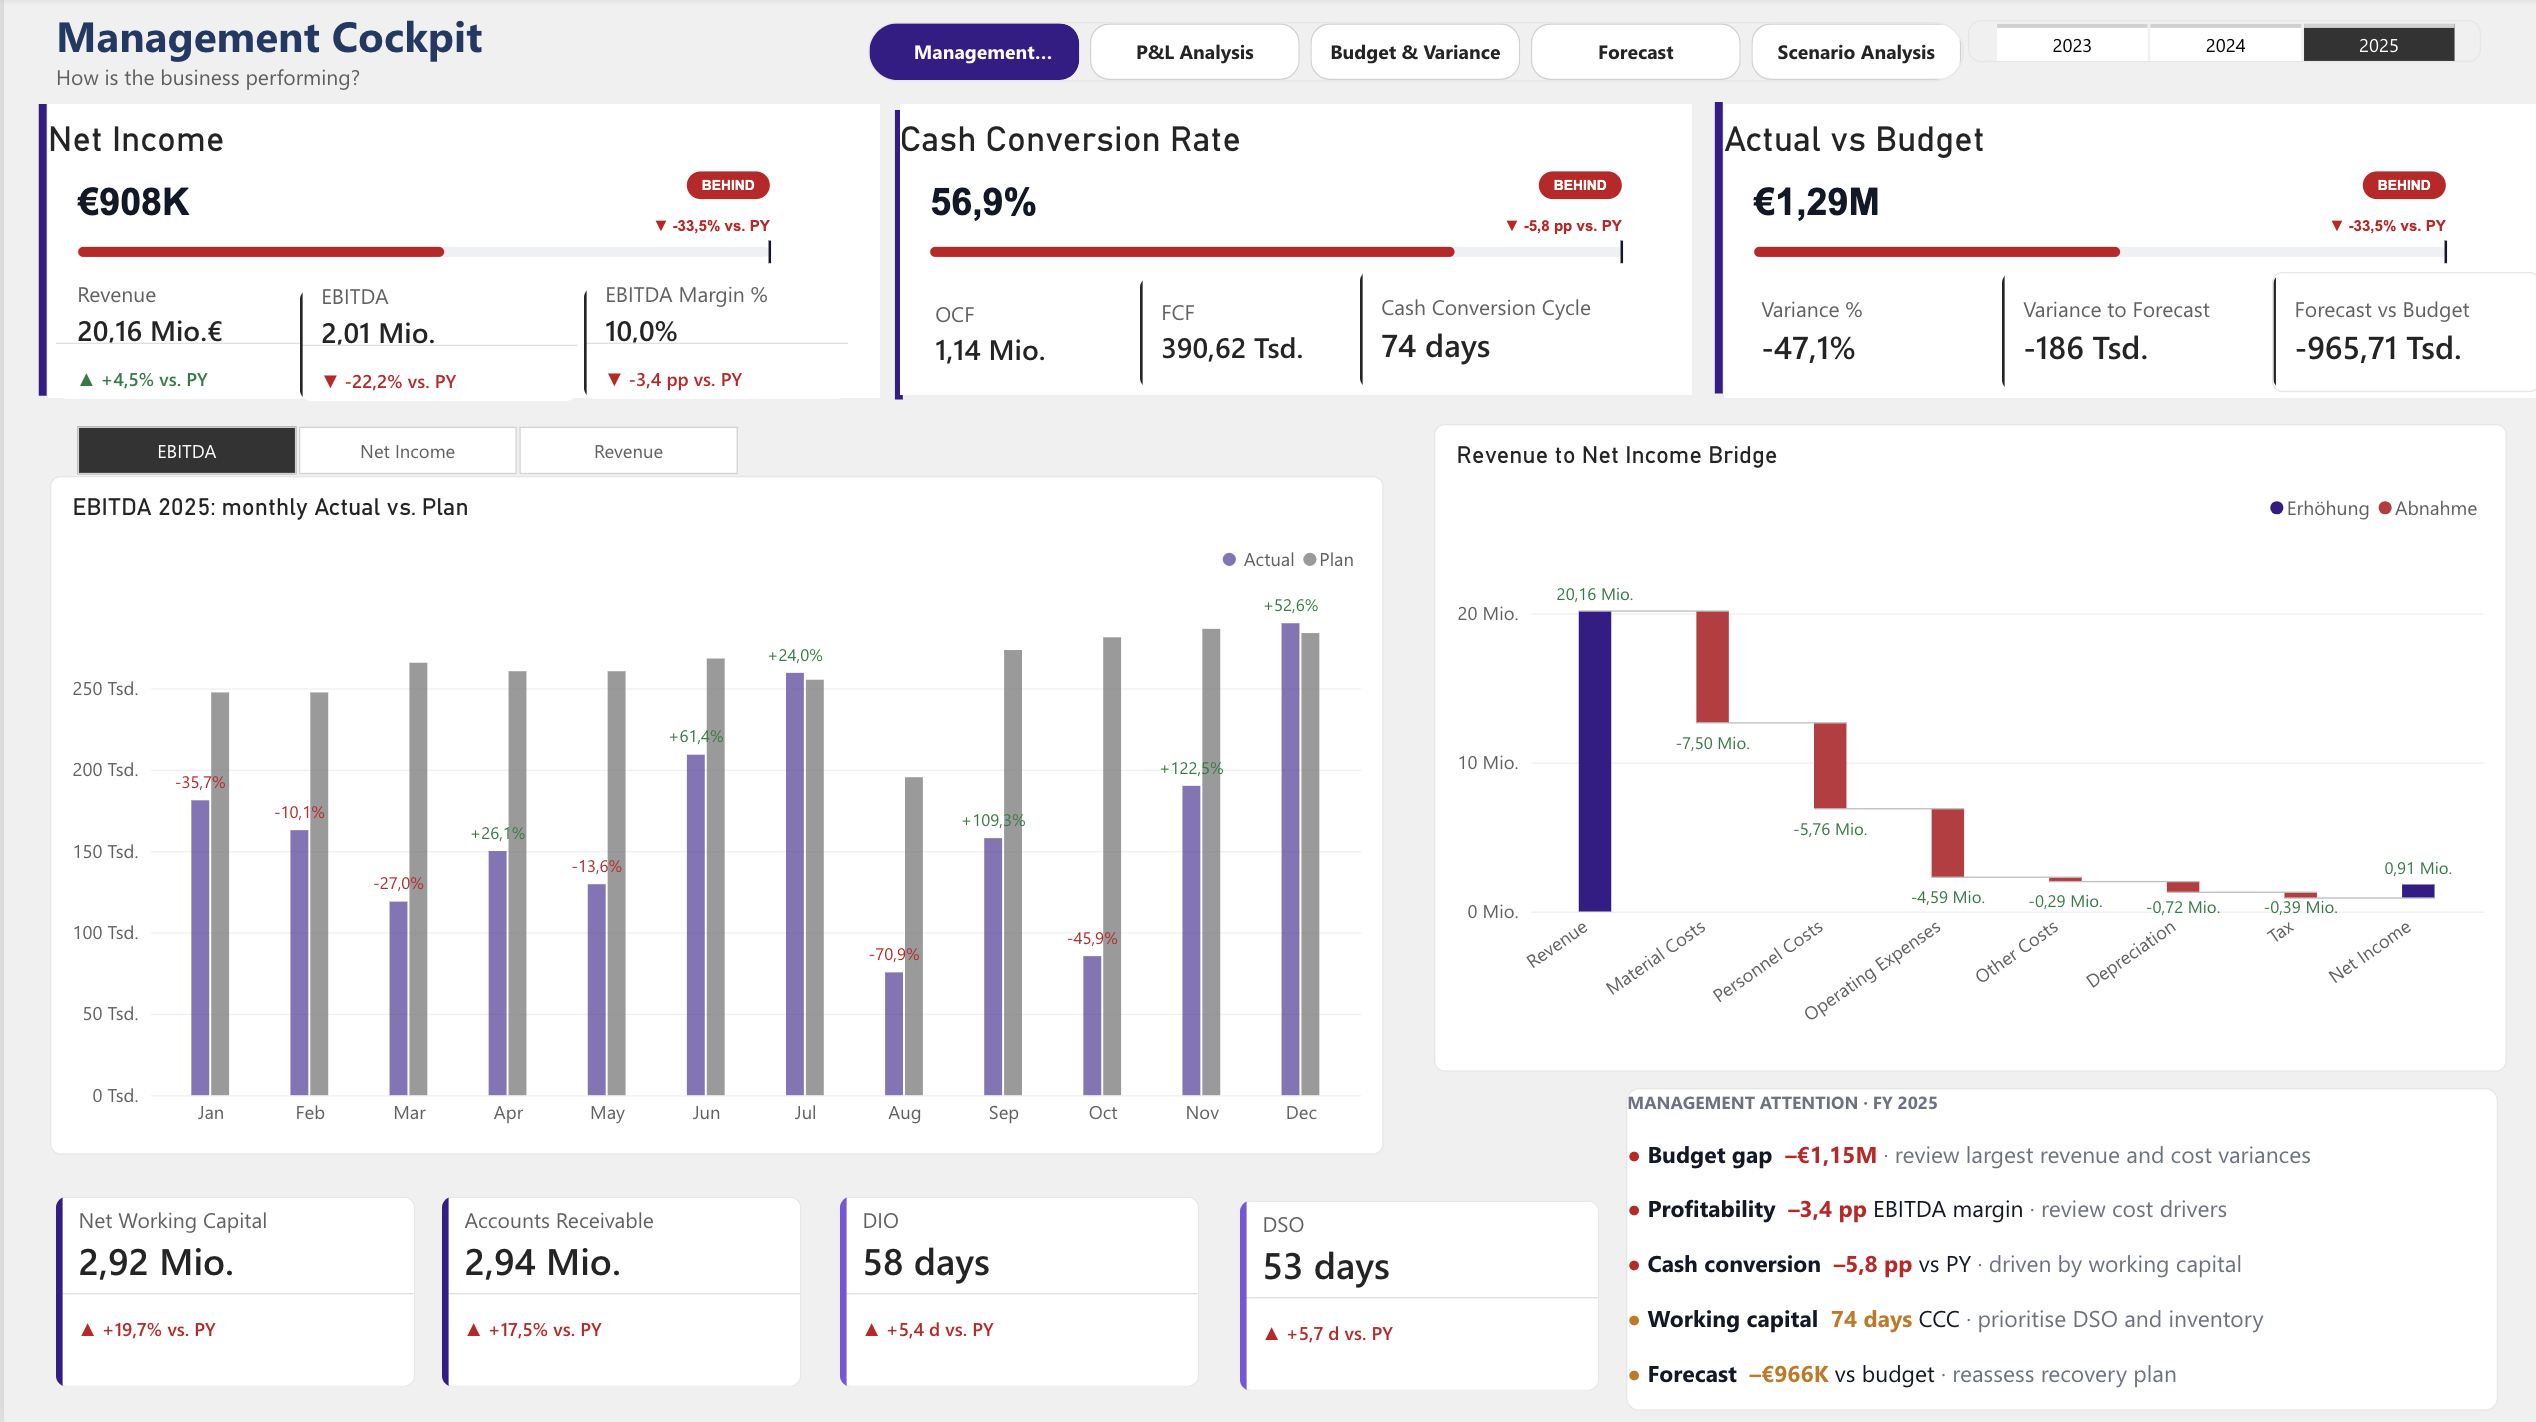

This screenshot's page, from the dashboard's own definition file:
{"tool":"powerbi","page":{"name":"Management Cockpit","canvas":[1920,1080],"ordinal":0},"visuals":[{"type":"htmlContent443BE3AD55E043BF878BED274D3A6855","title":"Actual vs  Budget","fields":{"content":["_Measures.SVG KPI Card AvB HTML"]},"box":[1303.1,80.6,616.5,222],"z":0,"group":"g3"},{"type":"shape","box":[0,81.6,58.6,221.1],"z":0,"group":"g4"},{"type":"group","id":"g1","title":"CCR","box":[648.6,81.6,630,223.5],"z":0},{"type":"group","id":"g2","title":"Group 2","box":[40,8,600,72],"z":1000},{"type":"textbox","box":[40,8,600,72],"z":1000,"group":"g2"},{"type":"htmlContent443BE3AD55E043BF878BED274D3A6855","title":"Net Income","fields":{"content":["_Measures.SVG KPI Card"]},"box":[32.8,82.1,630,222],"z":1000,"group":"g4"},{"type":"cardVisual","title":"Revenue","fields":{"Data":["_Measures.Variance %"]},"box":[1316.3,208.2,205.5,90.8],"z":1000,"group":"g3"},{"type":"slicer","title":"Year","fields":{"Values":["dim_date.year"]},"box":[1487.3,18.7,388.4,31.9],"z":2000},{"type":"cardVisual","title":"Revenue","fields":{"Data":["_Measures.Variance to Forecast"]},"box":[1513.5,208.2,205.5,90.8],"z":2000,"group":"g3"},{"type":"cardVisual","title":"Revenue","fields":{"Data":["_Measures.Forecast vs Budget"]},"box":[1718.3,208.2,203,90.8],"z":3000,"group":"g3"},{"type":"cardVisual","title":"Revenue","fields":{"Data":["_Measures.Revenue"]},"box":[40,214.9,204.8,90.8],"z":3000,"group":"g4"},{"type":"clusteredColumnChart","fields":{"Category":["dim_date.month_short"],"Y":["_Measures.Selected Actual","_Measures.Selected Plan"]},"box":[34.4,363.7,1009.8,513.9],"z":3000},{"type":"shape","box":[1291.3,79.6,16.4,220.9],"z":4000,"group":"g3"},{"type":"shape","box":[648.6,85.8,58.9,219.4],"z":4000,"group":"g1"},{"type":"cardVisual","title":"Revenue","fields":{"Data":["_Measures.EBITDA Margin %"]},"box":[440,214.9,200,90.8],"z":4000,"group":"g4"},{"type":"waterfallChart","title":"Revenue to Net Income Bridge","fields":{"Category":["Bridge.Step"],"Y":["_Measures.Bridge Value"]},"box":[1082.4,324.3,812.5,490.4],"z":4000},{"type":"htmlContent443BE3AD55E043BF878BED274D3A6855","title":"Cash Conversion Rate","fields":{"content":["_Measures.SVG KPI Card CCR HTML"]},"box":[678.9,81.6,599.7,220],"z":4250,"group":"g1"},{"type":"cardVisual","title":"Revenue","fields":{"Data":["_Measures.Operating Cash Flow"]},"box":[689.6,208.2,161.9,90],"z":4500,"group":"g1"},{"type":"cardVisual","title":"Revenue","fields":{"Data":["_Measures.EBITDA"]},"box":[224.4,216.3,210,90.5],"z":4500,"group":"g4"},{"type":"cardVisual","title":"Revenue","fields":{"Data":["_Measures.Free Cash Flow"]},"box":[860.4,207.8,161.9,90],"z":5000,"group":"g1"},{"type":"slicer","fields":{"Values":["KPI_Selector.KPI"]},"box":[34.1,323.9,539.8,39.8],"z":5000},{"type":"cardVisual","title":"Revenue","fields":{"Data":["_Measures.Cash Conversion Cycle"]},"box":[1027.6,207.3,200,90],"z":5500,"group":"g1"},{"type":"textbox","box":[1228.8,827,660.5,244.3],"z":6000},{"type":"cardVisual","fields":{"Data":["_Measures.Net Working Capital"]},"box":[39.8,904.8,272.5,149.8],"z":7000},{"type":"cardVisual","fields":{"Data":["_Measures.Accounts Receivable"]},"box":[331.2,904.8,272.5,149.8],"z":8000},{"type":"cardVisual","fields":{"Data":["_Measures.DIO"]},"box":[633.4,904.8,272.5,149.8],"z":9000},{"type":"cardVisual","fields":{"Data":["_Measures.DSO"]},"box":[935.6,906.6,272,149],"z":10000},{"type":"group","id":"g3","title":"actual vs budget","box":[1291.3,79.6,628.7,222.8],"z":11000},{"type":"group","id":"g4","title":"Group 1","box":[0,81.6,662.8,225.2],"z":12000},{"type":"pageNavigator","box":[655,19,830,45],"z":14000}]}

Visuals, with their boxes in screenshot pixels (x1, y1, x2, y2), scaled from the page's 1920x1080 canvas onto the 2536x1422 screenshot:
"Actual vs  Budget" htmlContent443BE3AD55E043BF878BED274D3A6855: detection(1721, 106, 2535, 398)
shape: detection(0, 107, 77, 399)
"CCR" group: detection(857, 107, 1689, 402)
"Group 2" group: detection(53, 11, 845, 105)
textbox: detection(53, 11, 845, 105)
"Net Income" htmlContent443BE3AD55E043BF878BED274D3A6855: detection(43, 108, 875, 400)
"Revenue" cardVisual: detection(1739, 274, 2010, 394)
"Year" slicer: detection(1964, 25, 2477, 67)
"Revenue" cardVisual: detection(1999, 274, 2271, 394)
"Revenue" cardVisual: detection(2270, 274, 2535, 394)
"Revenue" cardVisual: detection(53, 283, 323, 403)
clusteredColumnChart - dim_date.month_short x _Measures.Selected Actual: detection(45, 479, 1379, 1156)
shape: detection(1706, 105, 1727, 396)
shape: detection(857, 113, 934, 402)
"Revenue" cardVisual: detection(581, 283, 845, 403)
"Revenue to Net Income Bridge" waterfallChart: detection(1430, 427, 2503, 1073)
"Cash Conversion Rate" htmlContent443BE3AD55E043BF878BED274D3A6855: detection(897, 107, 1689, 397)
"Revenue" cardVisual: detection(911, 274, 1125, 393)
"Revenue" cardVisual: detection(296, 285, 574, 404)
"Revenue" cardVisual: detection(1136, 274, 1350, 392)
slicer - KPI_Selector.KPI: detection(45, 426, 758, 479)
"Revenue" cardVisual: detection(1357, 273, 1621, 391)
textbox: detection(1623, 1089, 2495, 1411)
cardVisual - _Measures.Net Working Capital: detection(53, 1191, 412, 1389)
cardVisual - _Measures.Accounts Receivable: detection(437, 1191, 797, 1389)
cardVisual - _Measures.DIO: detection(837, 1191, 1197, 1389)
cardVisual - _Measures.DSO: detection(1236, 1194, 1595, 1390)
"actual vs budget" group: detection(1706, 105, 2535, 398)
"Group 1" group: detection(0, 107, 875, 404)
pageNavigator: detection(865, 25, 1961, 84)
